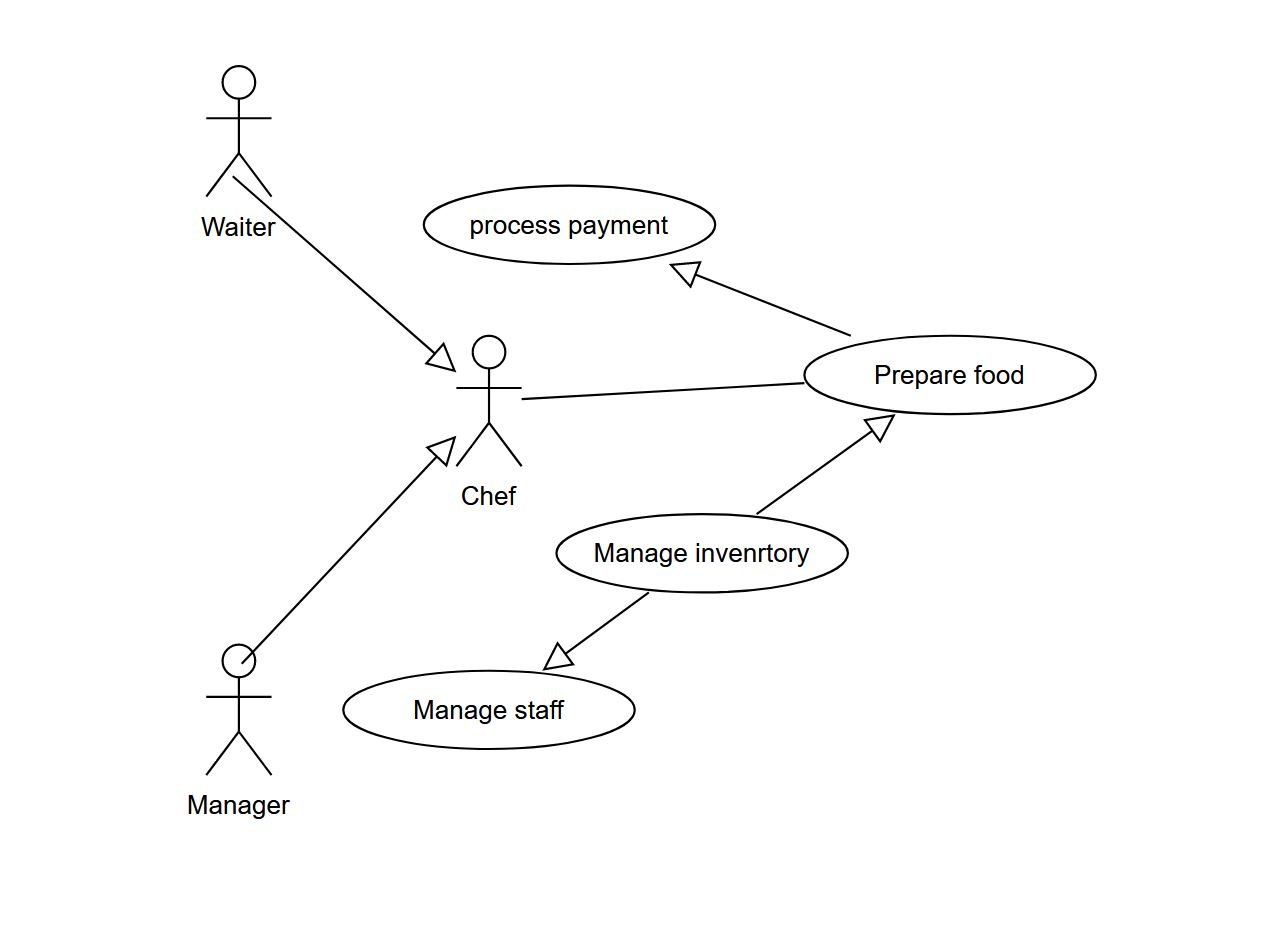actor: (198, 63, 274, 197), (203, 642, 274, 777), (456, 335, 525, 469)
association: (523, 378, 805, 400)
generalization: (243, 435, 456, 662), (234, 176, 455, 368), (759, 412, 901, 512), (666, 258, 850, 335), (543, 592, 647, 673)
text: (587, 534, 812, 572), (407, 690, 566, 728), (863, 358, 1029, 394), (464, 213, 672, 241), (180, 783, 292, 824), (193, 211, 282, 242), (453, 478, 527, 513)
use_case: (800, 332, 1098, 417), (427, 183, 715, 264), (555, 513, 849, 592), (343, 671, 636, 748)
